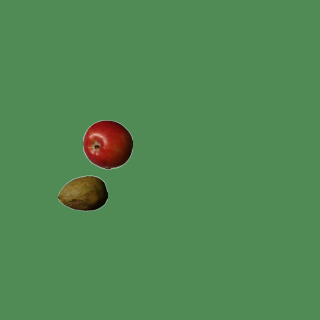Apple Braeburn: (82, 119, 132, 169)
Papaya: (57, 168, 107, 218)
